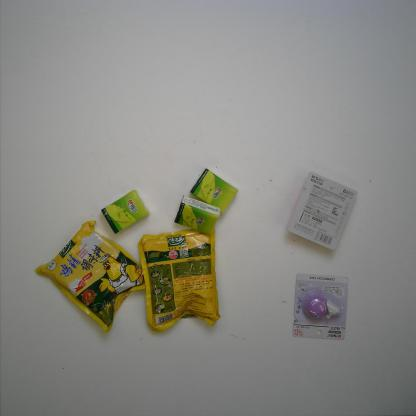Seasoner: (34, 219, 146, 334), (137, 228, 221, 335)
Stationery: (286, 171, 358, 252), (292, 272, 349, 340)
Tissue: (100, 189, 151, 235), (189, 168, 238, 215), (173, 194, 222, 236)
